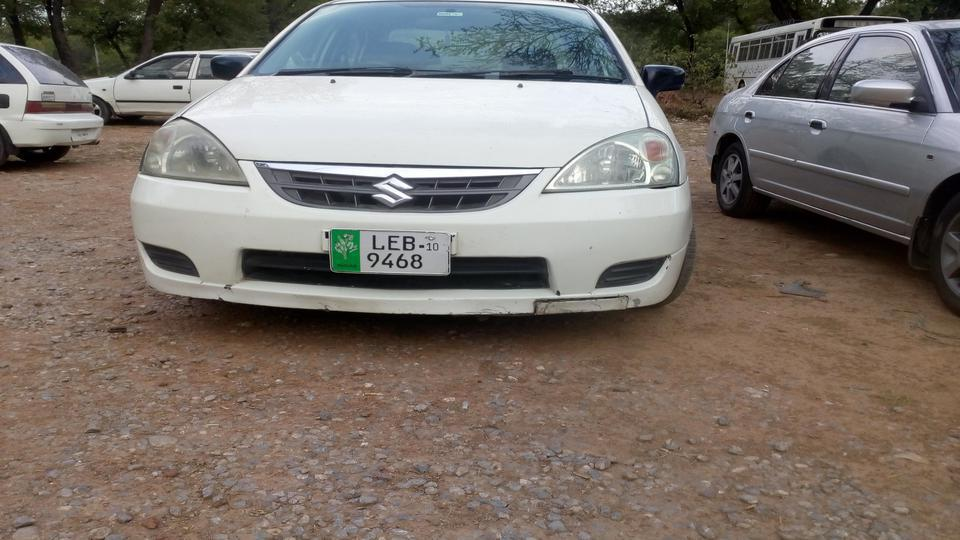NumberPlate: (331, 225, 455, 281)
